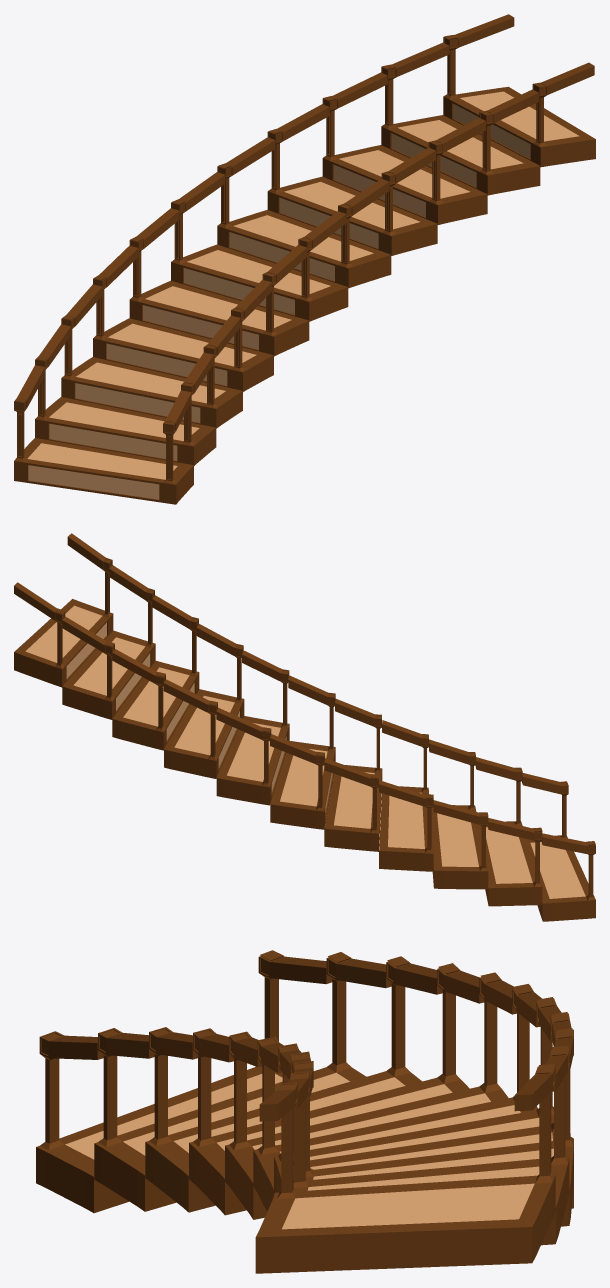
File: Arch_StairsCurved_Left.fbx
3 views of the same model, one above another, from view 1: azimuth 30°, elevation 25°; view 2: azimuth 150°, elevation 25°; view 3: azimuth 270°, elevation 25° (orthographic). The views are drawn at different scales.
Visible parts, largest first — view 1: StairsCurved.002; view 2: StairsCurved.002; view 3: StairsCurved.002.
Part boxes in pixels (x1,y1,x2,y2): StairsCurved.002: (14, 14, 595, 504); StairsCurved.002: (14, 533, 595, 921); StairsCurved.002: (36, 950, 573, 1273).
Size of the model in its own units: 970 by 445 by 428.
